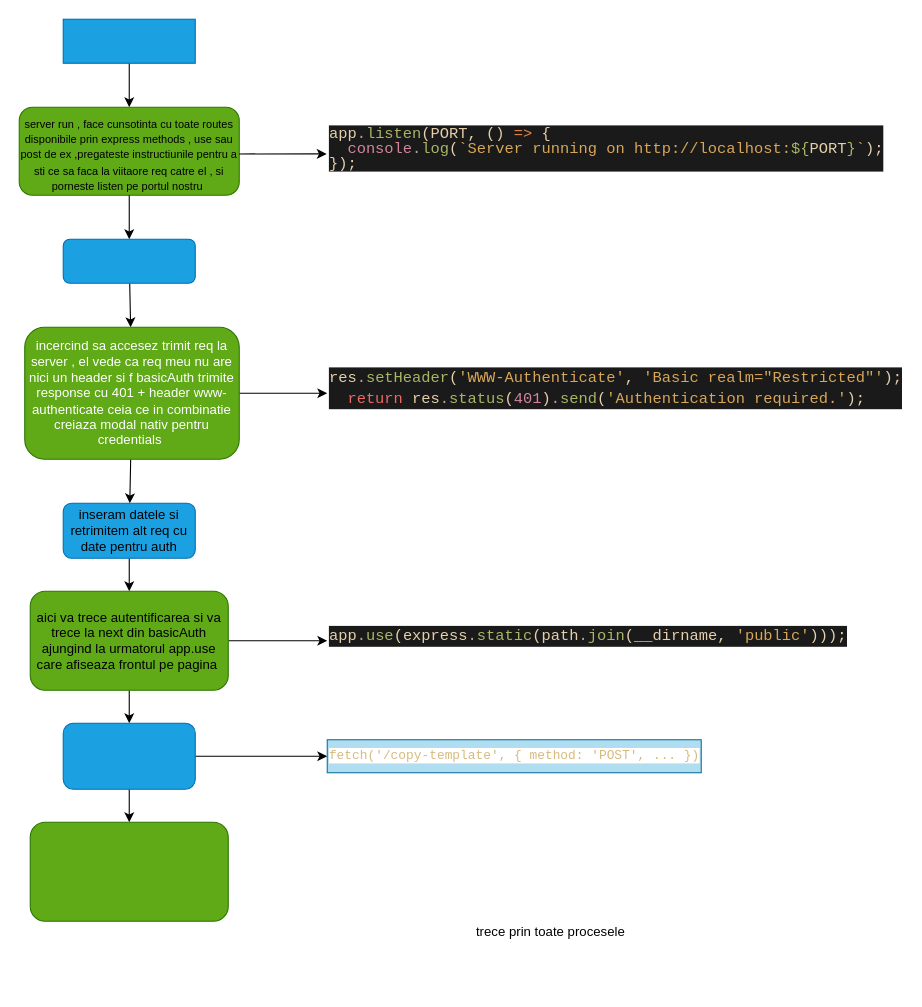
Image size: 922x1007. Some labels were removed from this diagram. The box of each missing label's shape, as (x1, y1, x2, y2) in pixels:
inseram datele in formular si apasam send: (62, 722, 195, 789)
localhost:PORT: (62, 238, 195, 283)
npm start: (62, 18, 195, 63)
